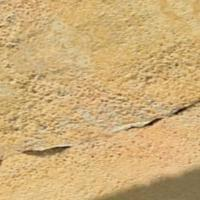crack: (1, 84, 199, 165)
